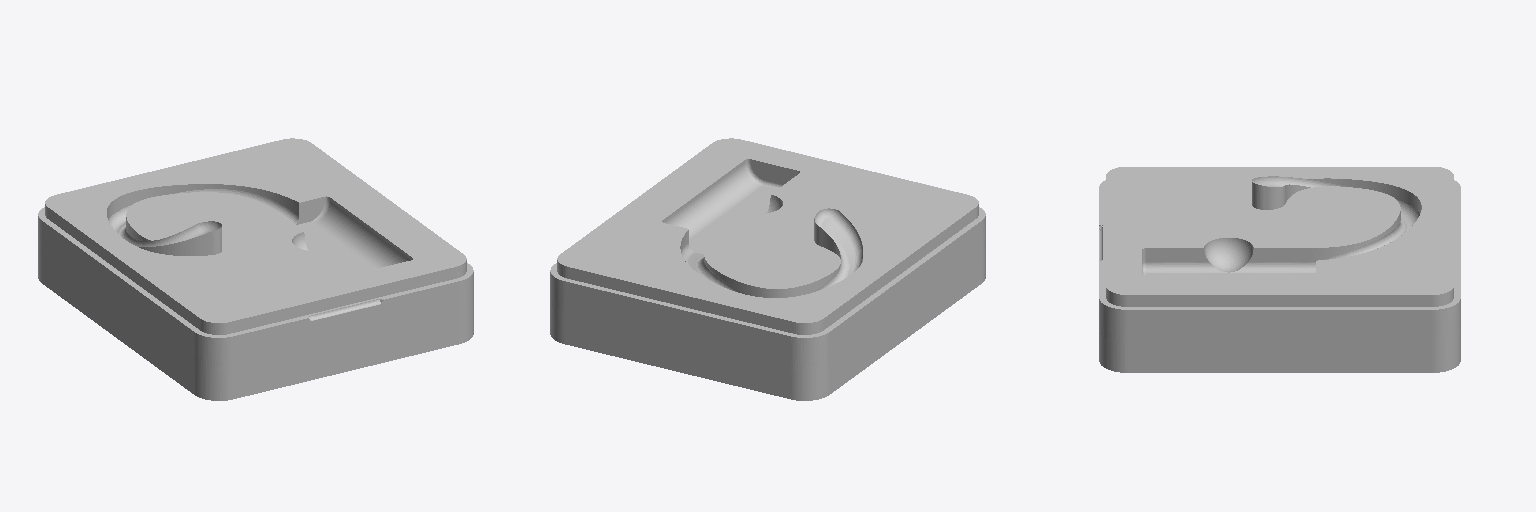
Rendered from Bottom.obj.
3 renders of one model, left to right at view 1: azimuth 30°, elevation 25°; view 2: azimuth 150°, elevation 25°; view 3: azimuth 270°, elevation 25°, orthographic.
Size of the model in its own units: 73.2 by 25.23 by 83.2.